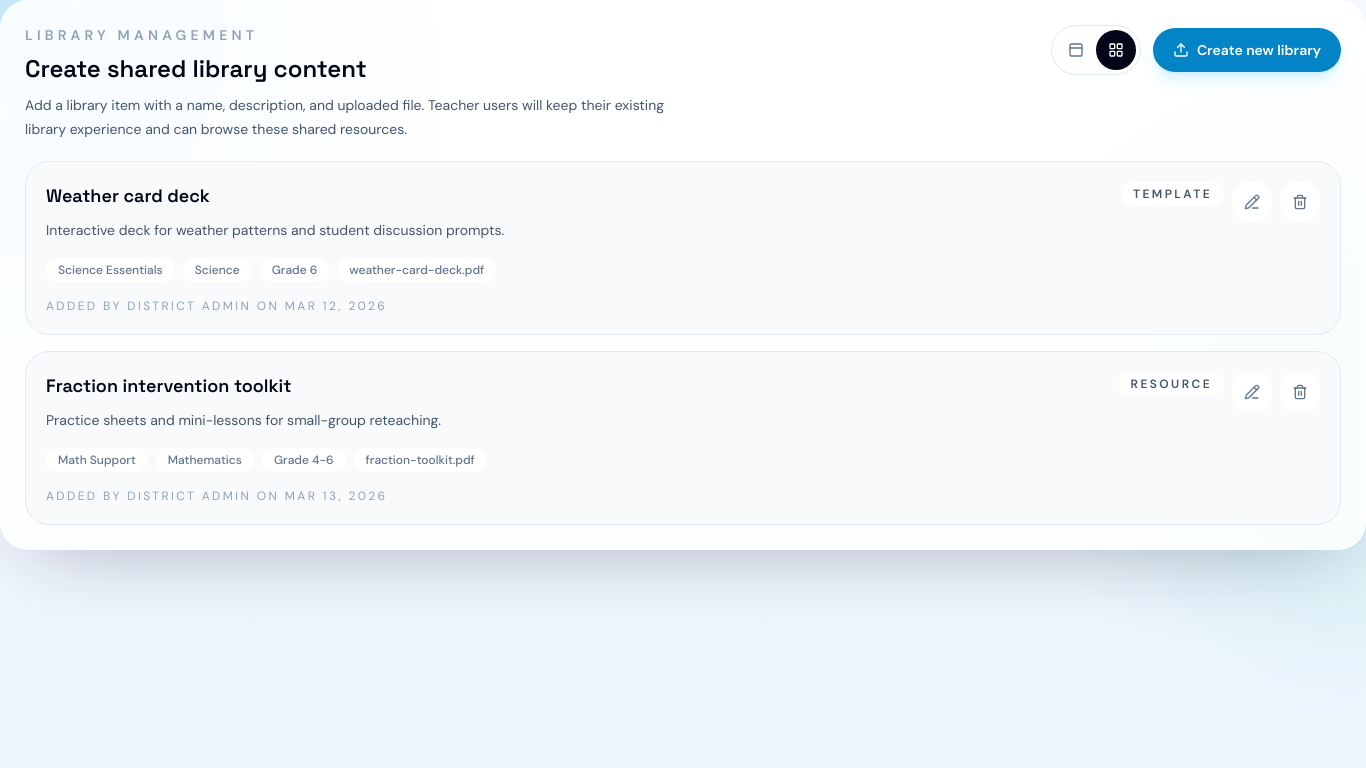
Test: ui components › switches the admin library module between grid and table views
expect the heading "Weather card deck" is shown: met, box x1=46 y1=184 x2=210 y2=207
Click the button named "table view".
click(1076, 50)  # box x1=1056 y1=30 x2=1096 y2=70
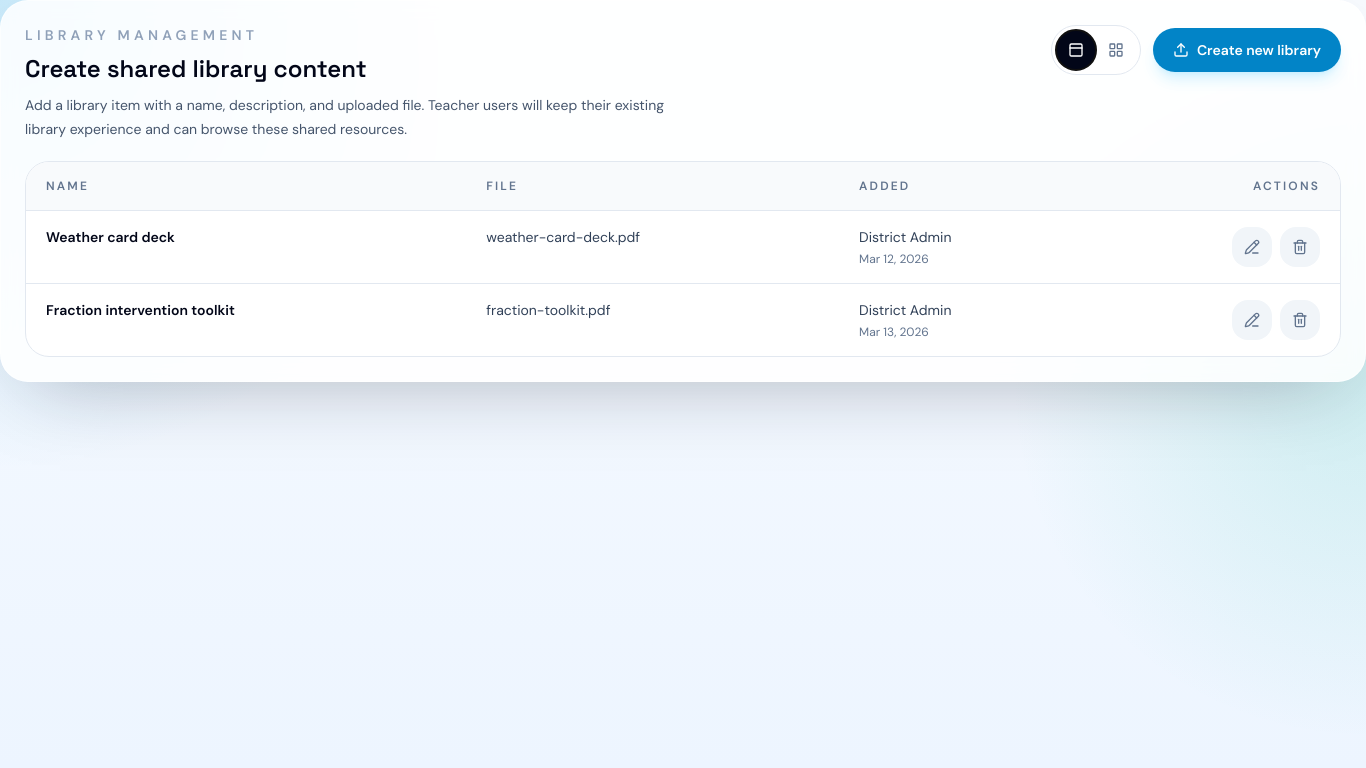
expect the text "Weather card deck" is shown: met, box x1=46 y1=228 x2=175 y2=246
expect the element with test id "admin-library__table" is shown: met, box x1=25 y1=161 x2=1341 y2=357
Click the button named "grid view".
click(1116, 50)  # box x1=1096 y1=30 x2=1136 y2=70
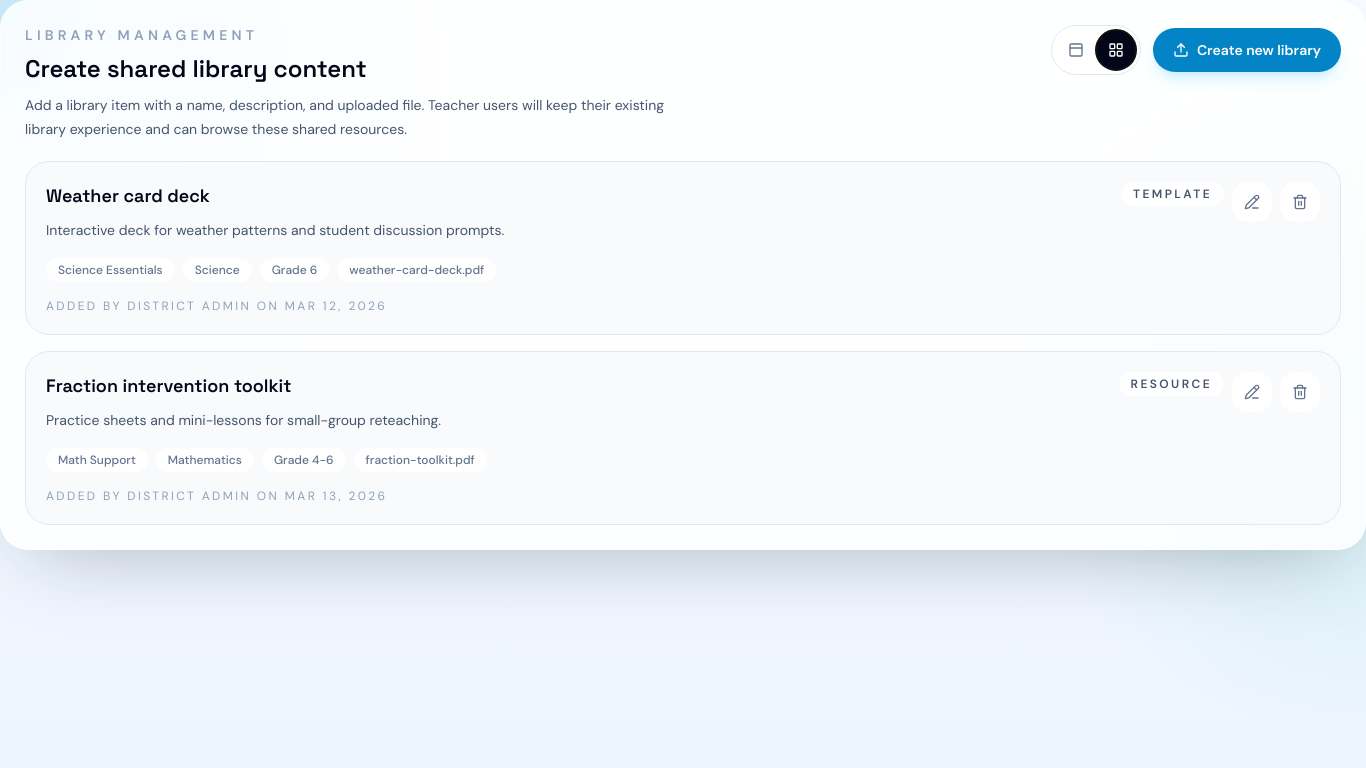
expect the element with test id "admin-library__table" is gone: met
